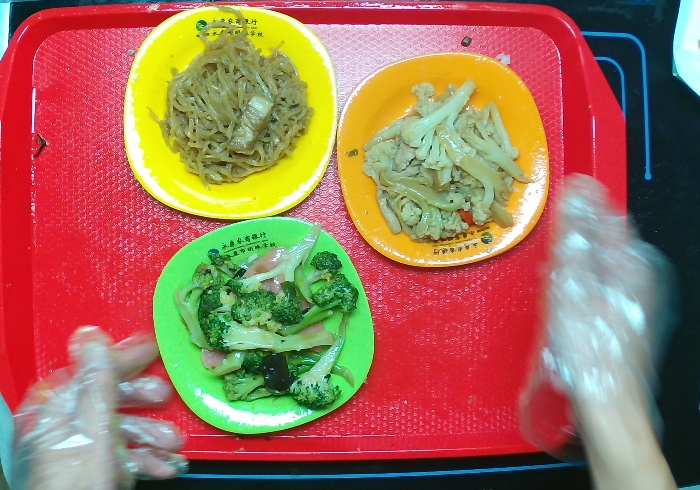YKMZ-Huang_Se_Fang_Die: (120, 4, 341, 221)
YKMZ-Ju_Se_Fang_Die: (335, 50, 550, 268)
YKMZ-Lv_Se_Fang_Die: (151, 214, 376, 437)
